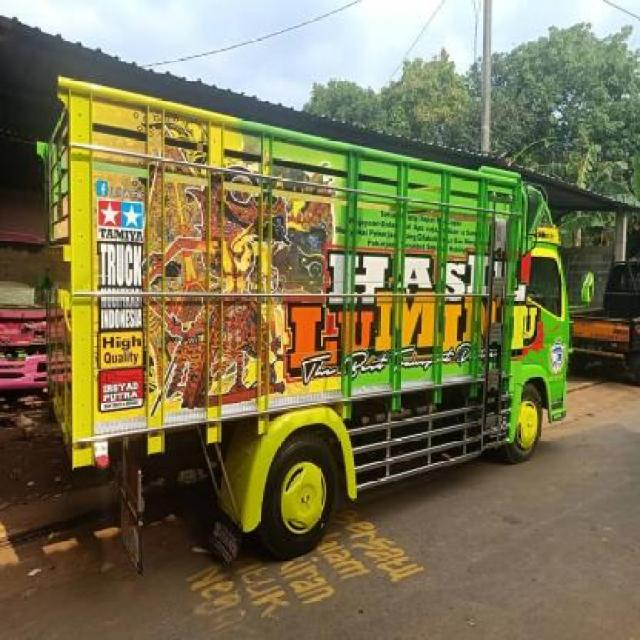truck: (47, 72, 596, 564)
